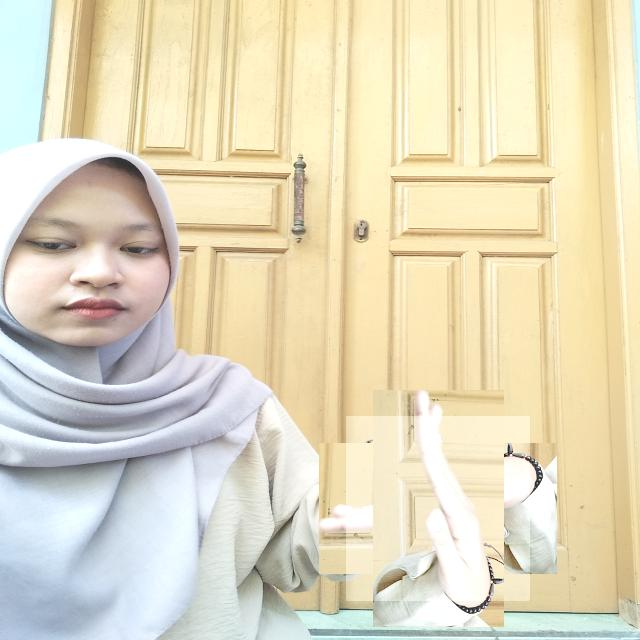adik: (346, 416, 530, 601)
